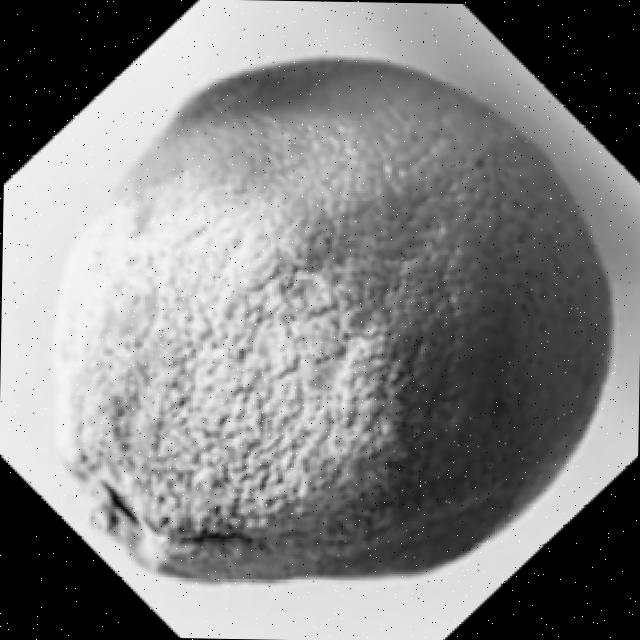Rotten: (45, 48, 615, 592)
